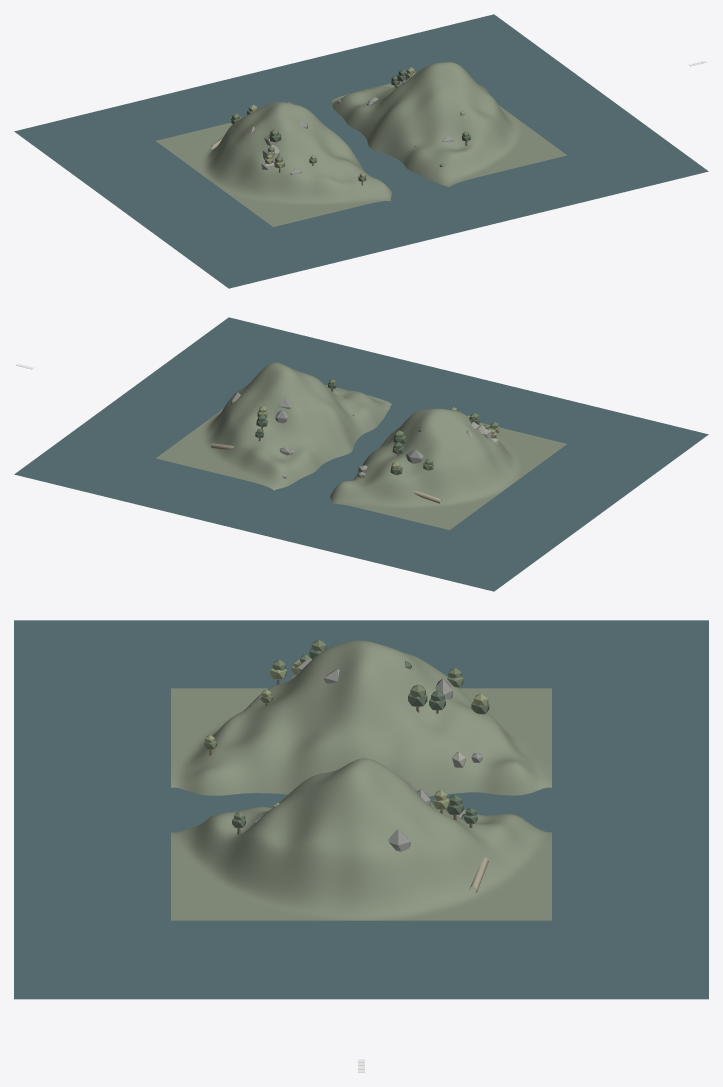
File: arena_higgsfield.glb
3 renders of one model, top to bottom at view 1: azimuth 30°, elevation 25°; view 2: azimuth 150°, elevation 25°; view 3: azimuth 270°, elevation 25°, orthographic. The views are drawn at different scales.
Visible parts, largest first — view 1: ENV_surrounding_water, ENV_island_terrain; view 2: ENV_surrounding_water, ENV_island_terrain; view 3: ENV_surrounding_water, ENV_island_terrain.
Boxes of the visible parts, <box> form: ENV_surrounding_water: <box>14,14,708,288</box>; ENV_island_terrain: <box>156,62,566,226</box>; ENV_surrounding_water: <box>14,317,708,591</box>; ENV_island_terrain: <box>156,362,566,529</box>; ENV_surrounding_water: <box>14,620,708,999</box>; ENV_island_terrain: <box>171,640,551,920</box>.
Bounding box in the file's own units: 195 × 32.85 × 124.
